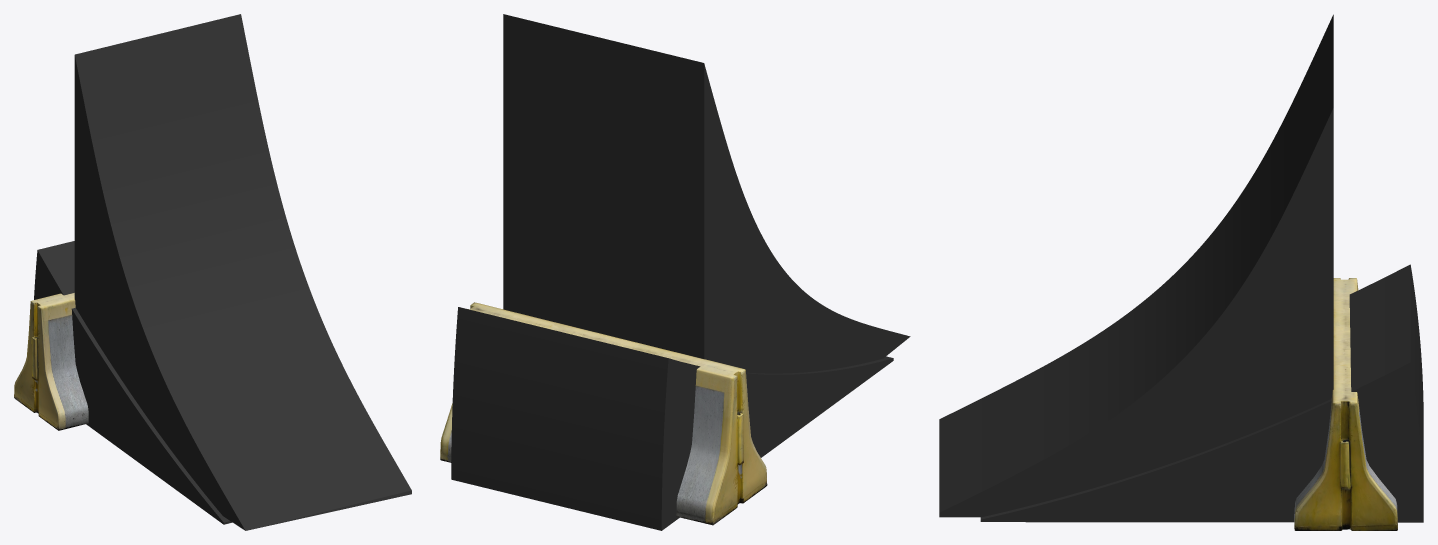
The model's file is rampU_model.glb.
3 views of the same model, side by side, from view 1: azimuth 30°, elevation 25°; view 2: azimuth 150°, elevation 25°; view 3: azimuth 270°, elevation 25° (orthographic). The views are drawn at different scales.
Visible parts, largest first — view 1: Cube.001, Cube, concrete barriers; view 2: Cube.001, Cube, concrete barriers; view 3: Cube.001, Cube, concrete barriers.
Part boxes in pixels (left/top/right/bottom): Cube.001: left=74, top=14, right=411, bottom=530; Cube: left=34, top=241, right=232, bottom=524; concrete barriers: left=14, top=293, right=88, bottom=430; Cube.001: left=503, top=14, right=910, bottom=373; Cube: left=451, top=307, right=893, bottom=530; concrete barriers: left=440, top=302, right=767, bottom=525; Cube.001: left=939, top=14, right=1333, bottom=517; Cube: left=980, top=264, right=1423, bottom=522; concrete barriers: left=1294, top=278, right=1397, bottom=530.
Size of the model in its own units: 9.26 by 13.81 by 14.7.
Materials: 2 (1 with a texture image).
